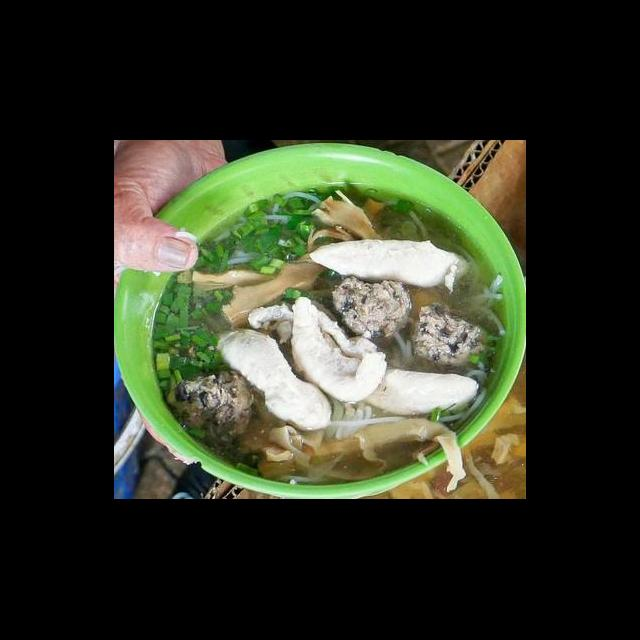bun: (210, 186, 324, 270), (324, 392, 411, 440)
vien moc: (329, 272, 416, 350), (172, 368, 256, 448), (406, 300, 488, 374)
